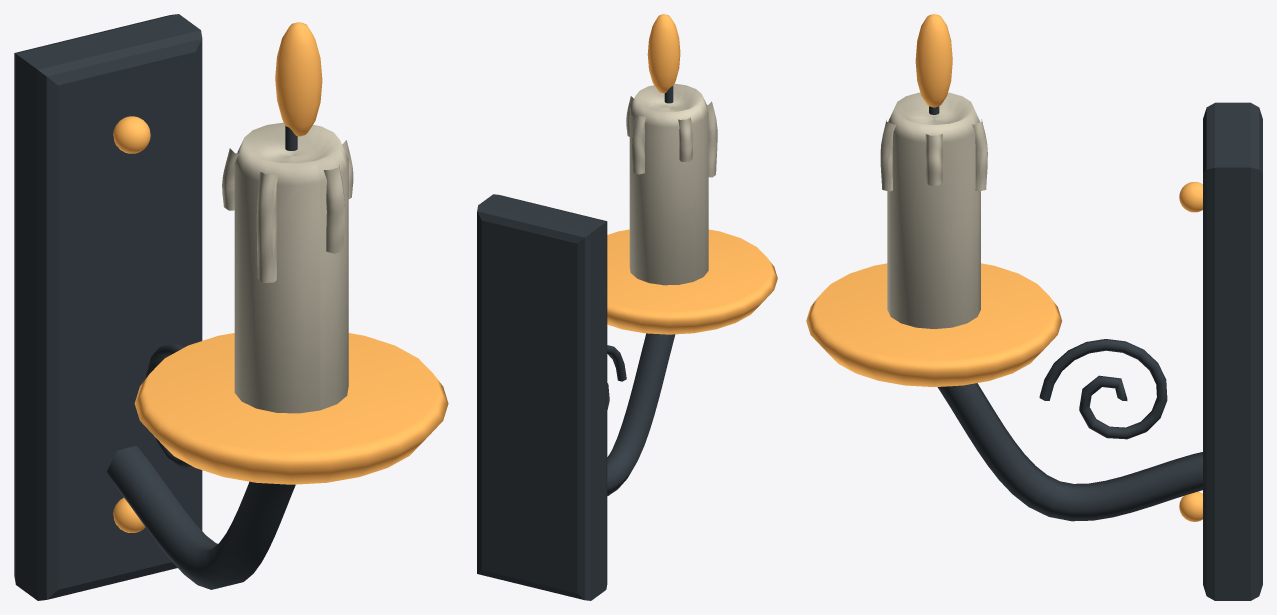
The model's file is hollowwick-halloween-scroll-wall-sconce-f42ffea2__21618.glb.
The picture shows the model from 3 angles, left to right: view 1: azimuth 30°, elevation 25°; view 2: azimuth 150°, elevation 25°; view 3: azimuth 270°, elevation 25°; orthographic projection. The views are drawn at different scales.
Visible parts, largest first — view 1: scroll-wall-sconce; view 2: scroll-wall-sconce; view 3: scroll-wall-sconce.
Boxes of the visible parts, <box> form: scroll-wall-sconce: <box>14,14,448,600</box>; scroll-wall-sconce: <box>477,14,777,600</box>; scroll-wall-sconce: <box>806,14,1262,600</box>.
Bounding box in the file's own units: 0.3 × 0.7205 × 0.535.
Materials: 3 (1 with a texture image).
